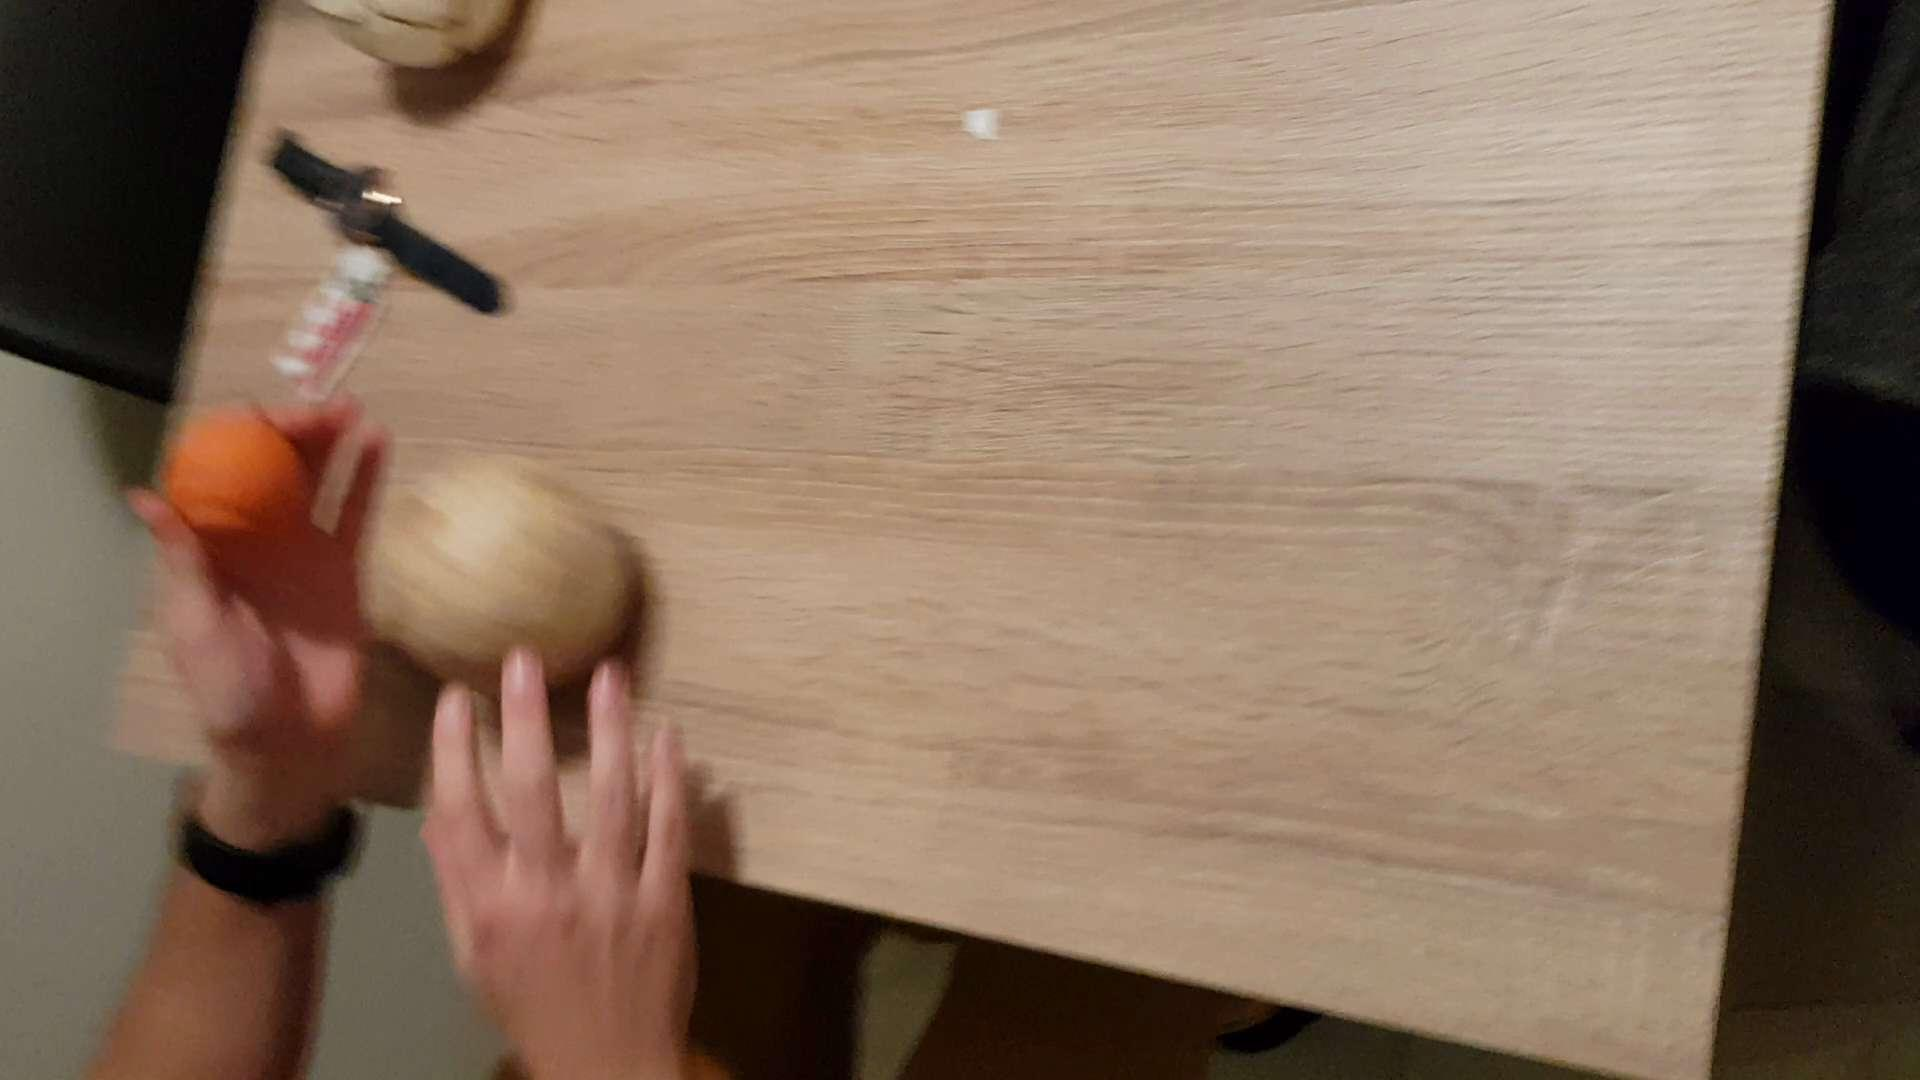Sphere: (372, 444, 617, 691), (154, 405, 313, 553)
